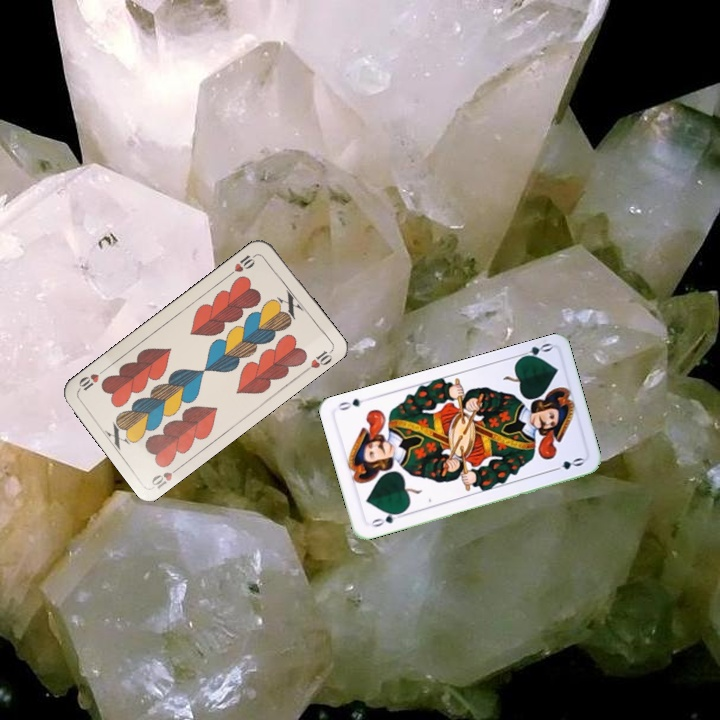GO: (514, 339, 554, 363), (365, 508, 406, 529)
H10: (147, 461, 184, 492), (225, 250, 260, 278)
